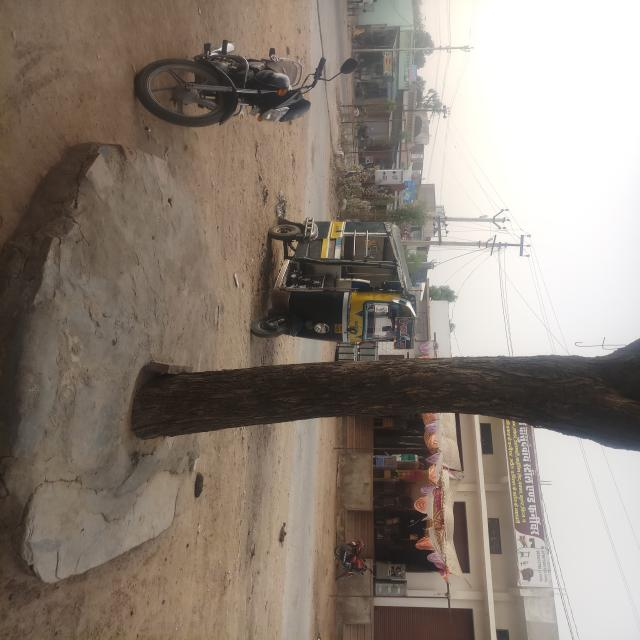Autorickshaw: (245, 185, 427, 358)
Bike: (127, 18, 364, 153), (332, 523, 378, 597)
